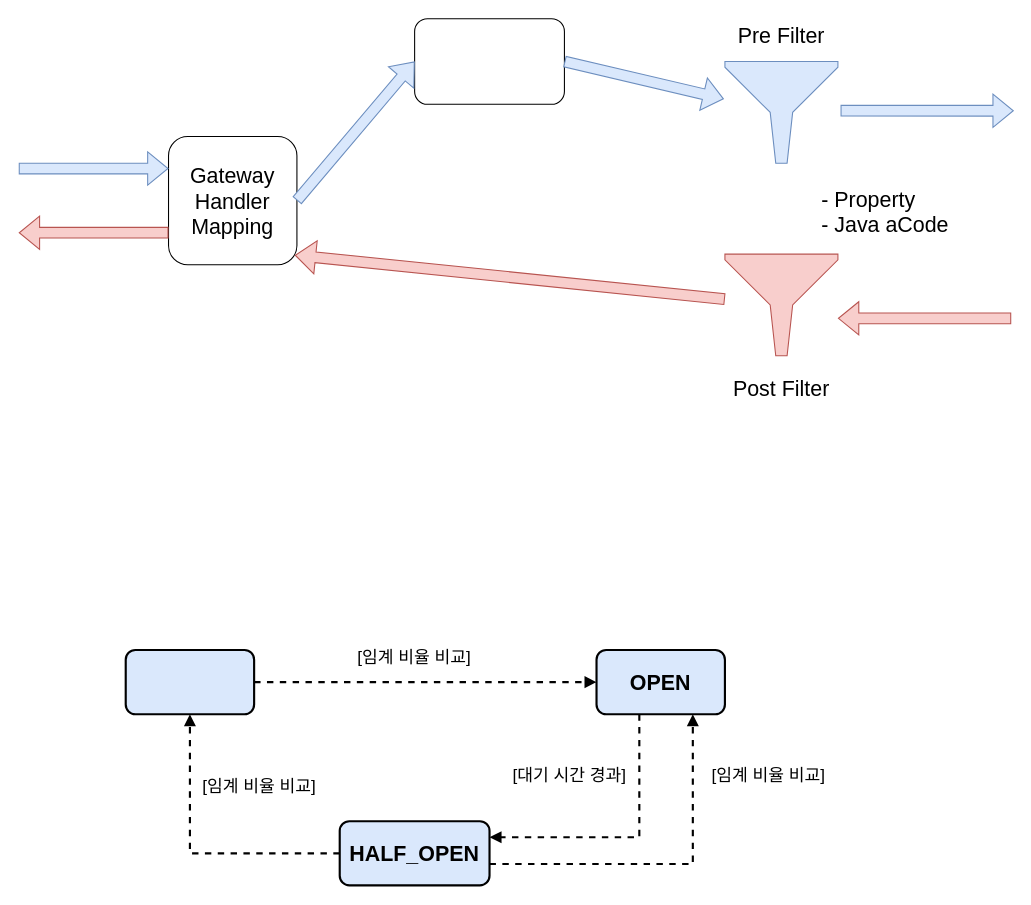
The diagram is 1031 pixels wide and 905 high, and some of its shapes have lost their labels. The shapes that lost their labels are listed below. From the top down, each one's box as (x1, y1, x2, y2) in pixels, then its label:
(414, 18, 564, 104): Predicate
(124, 648, 255, 715): CLOSED
